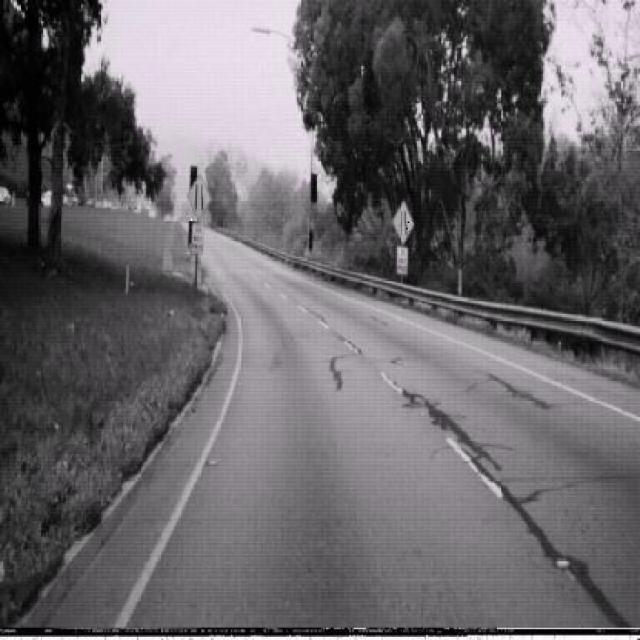laneEnds: (186, 174, 211, 223), (392, 198, 414, 245)
